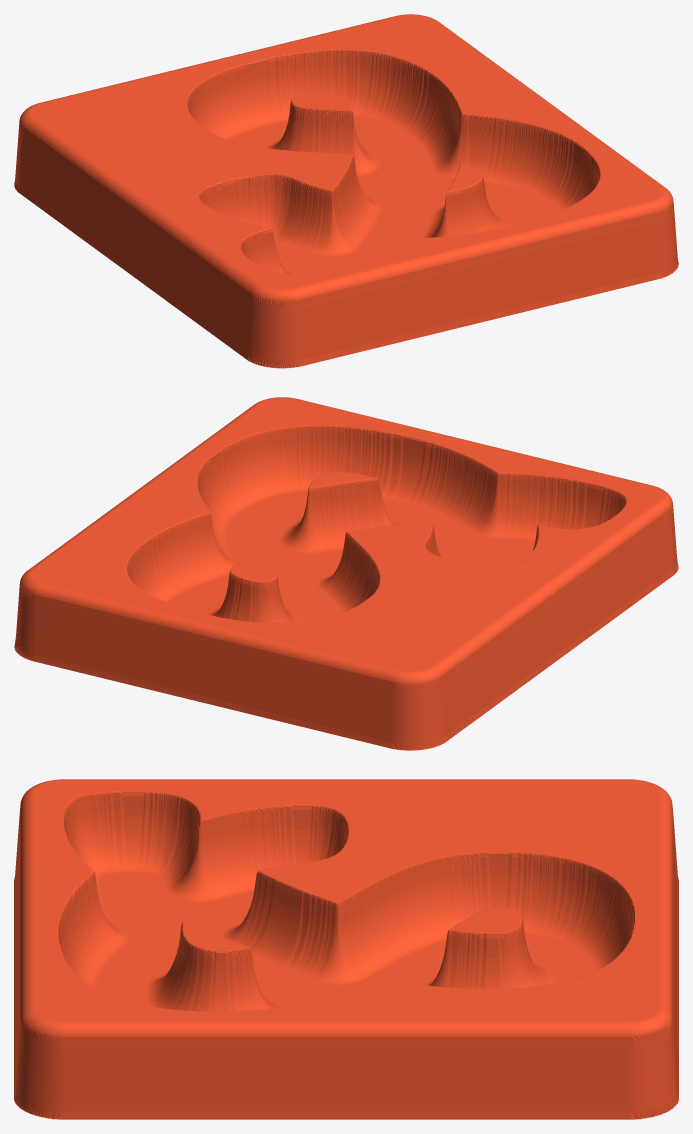
Rendered from mold.glb.
The picture shows the model from 3 angles, top to bottom: view 1: azimuth 30°, elevation 25°; view 2: azimuth 150°, elevation 25°; view 3: azimuth 270°, elevation 25°; orthographic projection. The views are drawn at different scales.
Visible parts, largest first — view 1: geometry_0; view 2: geometry_0; view 3: geometry_0.
Boxes of the visible parts, <box> form: geometry_0: <box>14,14,678,368</box>; geometry_0: <box>14,397,678,750</box>; geometry_0: <box>14,779,678,1119</box>.
Bounding box in the file's own units: 0.1082 × 0.0175 × 0.1178.
